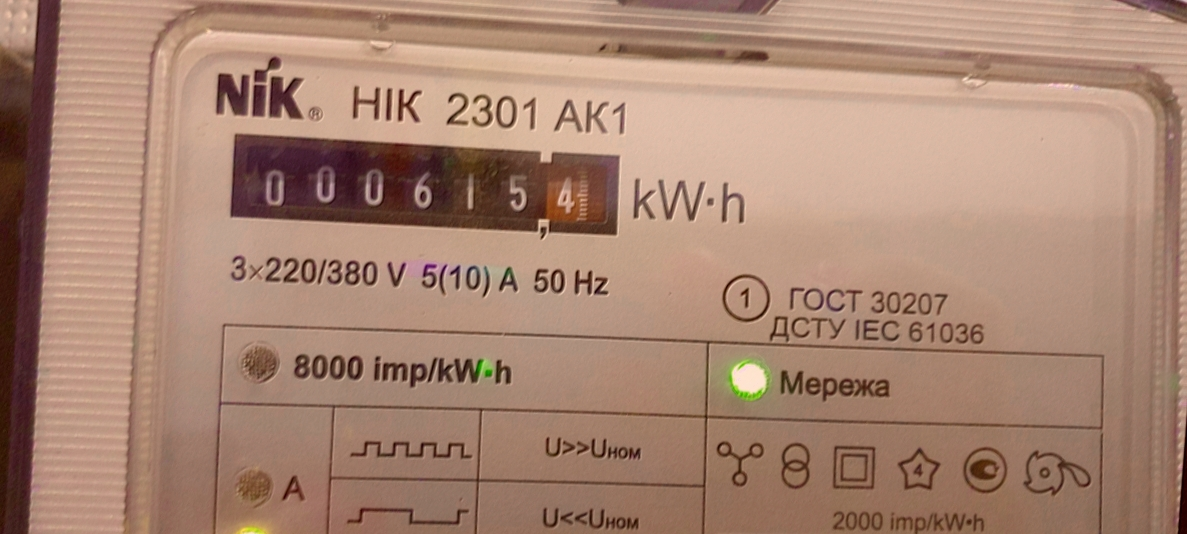0: (259, 164, 287, 207), (359, 164, 386, 208), (311, 161, 337, 203)
1: (461, 168, 478, 211)
4: (553, 172, 575, 214)
5: (504, 169, 530, 213)
6: (408, 167, 435, 209)
screen: (213, 113, 635, 257)
